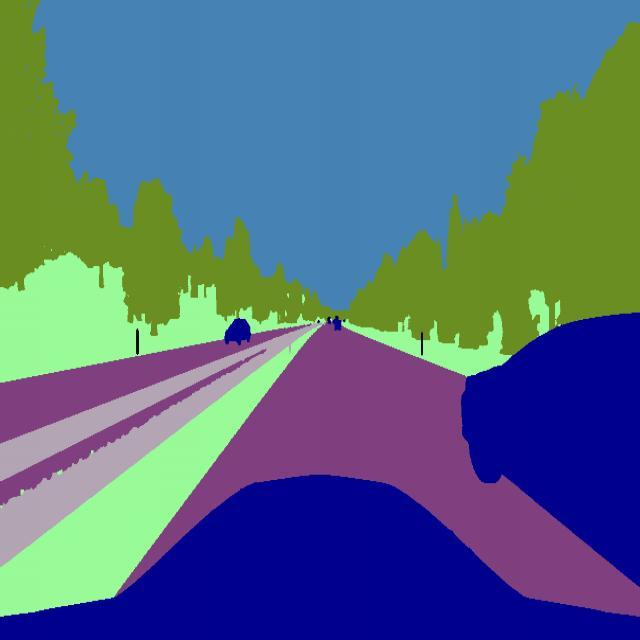safe: (222, 313, 252, 347), (332, 316, 344, 334)
unsafe: (455, 315, 640, 587)
